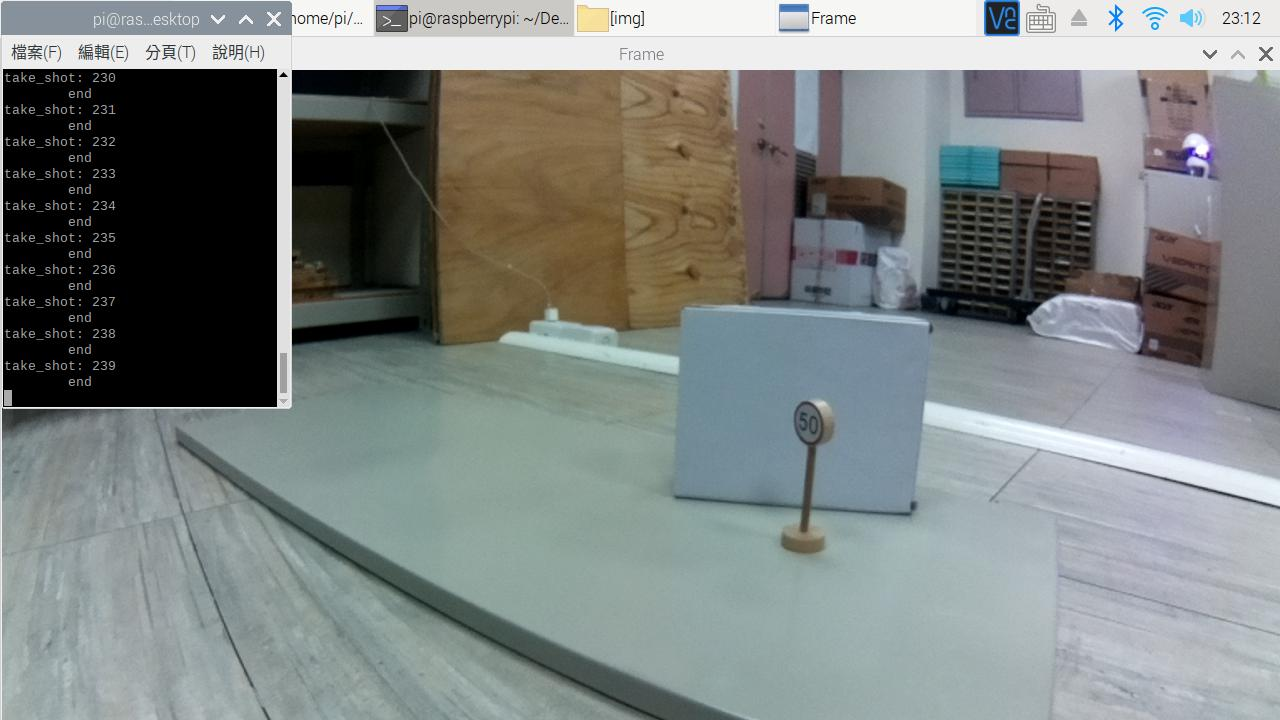Speed50: (787, 396, 848, 462)
